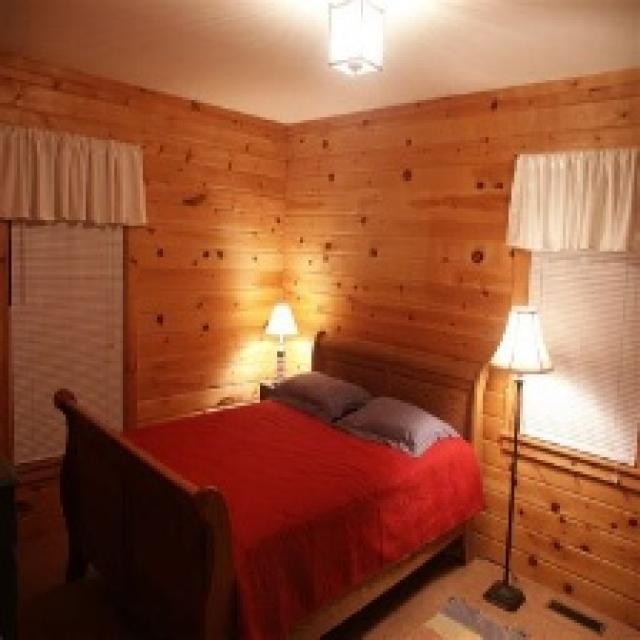Bed: (51, 329, 492, 637)
